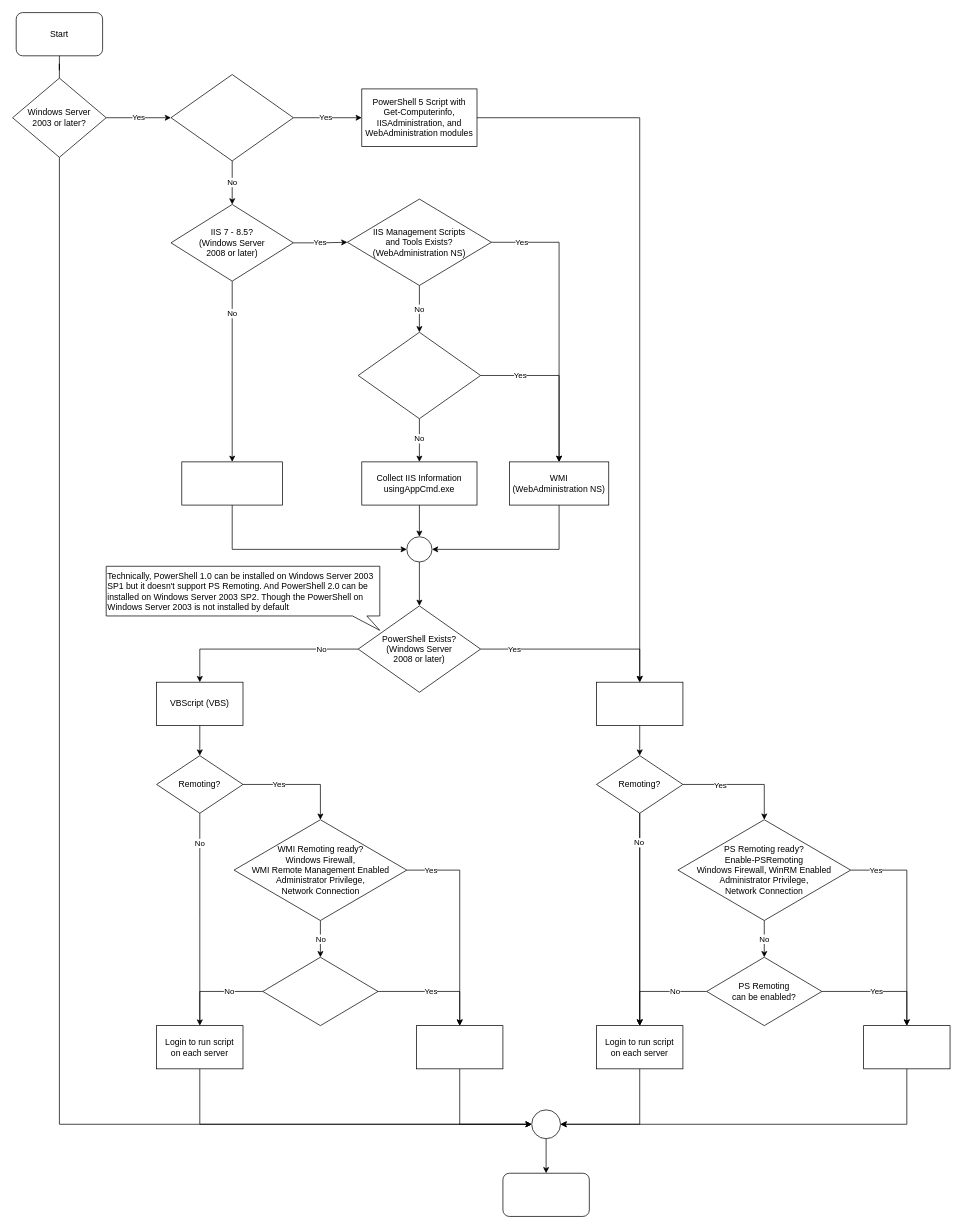
The diagram is 963 pixels wide and 1229 high, and some of its shapes have lost their labels. The shapes that lost their labels are listed below. From the top down, each one's centre as x and y in pixels, then its label:
point (231, 117): IIS 10? (Windows Server 2016 or later and WMF 5.1)
point (419, 375): IIS Management Scripts and Tools can be installed?
point (232, 483): WMI (MicrosoftIISv2 NS)
point (639, 703): PowerShell Script
point (320, 991): WMI Remoting can be enabled?
point (459, 1047): WMI remote execution
point (906, 1047): PS script remote execution
point (545, 1194): End
